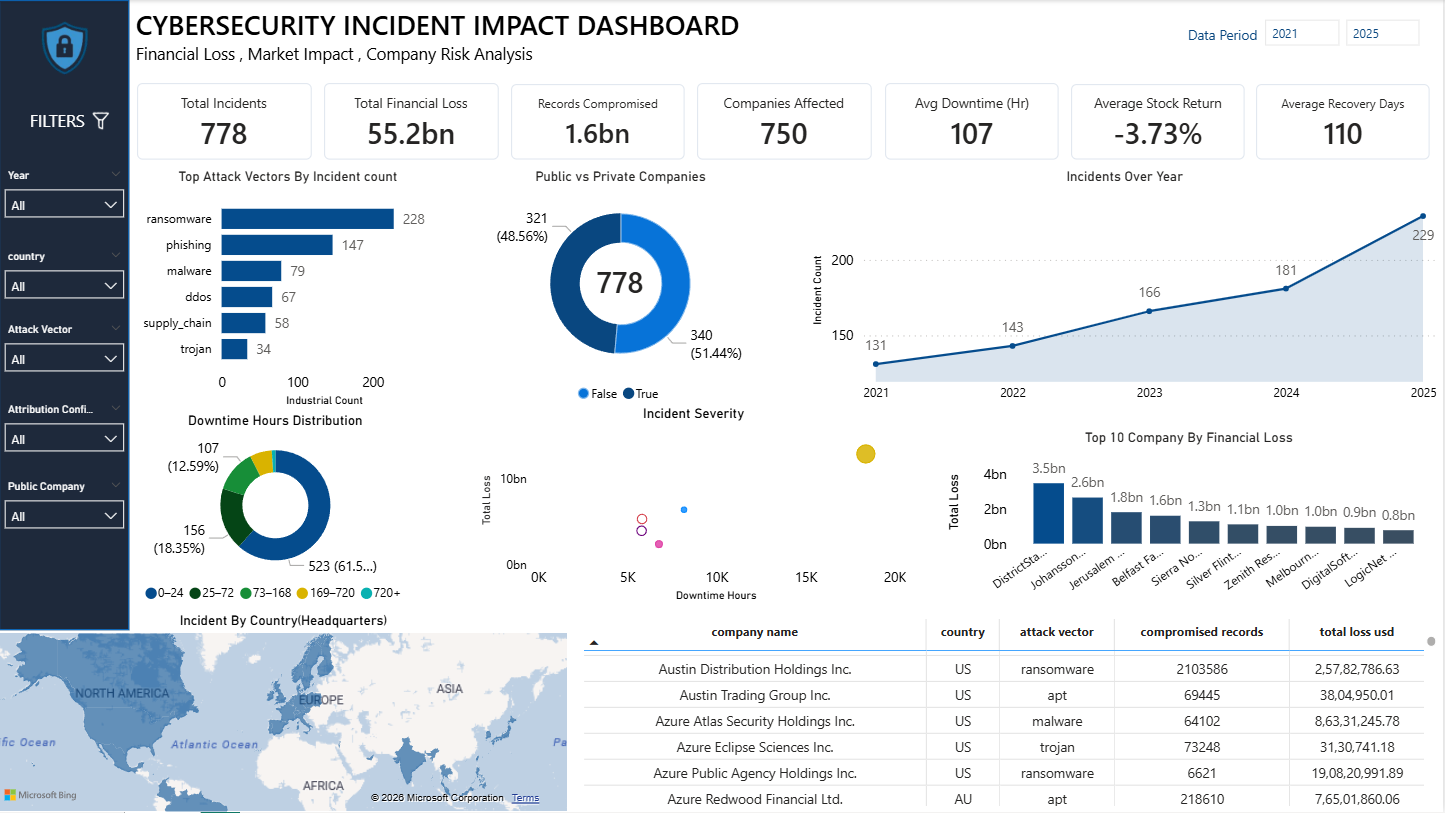

The page's visual inventory and layout, read from the dashboard file:
{"tool":"powerbi","page":{"name":"Page 1","canvas":[1280,720],"ordinal":0},"visuals":[{"type":"shape","box":[0,0,115.5,558.8],"z":0},{"type":"textbox","box":[115.7,0,549.5,67.1],"z":1},{"type":"textbox","box":[0,91.7,103.2,35],"z":2,"group":"g1"},{"type":"image","box":[77.2,87.8,26,38.9],"z":3,"group":"g1"},{"type":"group","id":"g1","title":"Group 1","box":[0,87.8,103,39.4],"z":4},{"type":"image","box":[21.4,11.7,73.9,62.2],"z":5},{"type":"cardVisual","fields":{"Data":["security incidents_master.Total Incidents"]},"box":[122.7,73.4,154.9,68.1],"z":6},{"type":"cardVisual","fields":{"Data":["security financial_impact.Total Financial Loss"]},"box":[288.4,73.4,154.9,68.1],"z":7},{"type":"cardVisual","fields":{"Data":["security incidents_master.Records Compromised"]},"box":[454,74.3,154,67.2],"z":8},{"type":"cardVisual","fields":{"Data":["security incidents_master.Companies Affected"]},"box":[618.8,73.4,154.9,68.1],"z":9},{"type":"cardVisual","fields":{"Data":["security incidents_master.Average Downtime"]},"box":[785.4,73.4,154,68.1],"z":10},{"type":"cardVisual","fields":{"Data":["security market_impact.Average Stock Return"]},"box":[950.1,74.3,154,67.2],"z":11},{"type":"cardVisual","fields":{"Data":["security market_impact.Average Recovery Days"]},"box":[1114.9,74.3,154,67.2],"z":12},{"type":"clusteredBarChart","title":"Top Attack Vectors By Incident count","fields":{"Y":["CountNonNull(security incidents_master.incident_id)"],"Category":["security incidents_master.attack_vector_primary"]},"box":[122.7,149.6,267.8,210.4],"z":13},{"type":"donutChart","title":"Public vs Private Companies","fields":{"Category":["security incidents_master.is_public_company"],"Y":["CountNonNull(security incidents_master.incident_id)"]},"box":[416.4,149.6,268.7,216.7],"z":14,"group":"g2"},{"type":"cardVisual","fields":{"Data":["security incidents_master.Total Incidents"]},"box":[504.2,222.1,92.2,50.1],"z":17,"group":"g2"},{"type":"group","id":"g2","title":"Group 2","box":[416.4,149.6,268.7,216.7],"z":18},{"type":"lineChart","title":"Incidents Over Year","fields":{"Category":["security incidents_master.incident_date.Variation.Date Hierarchy.Year"],"Y":["CountNonNull(security incidents_master.incident_id)"]},"box":[716.4,149.6,563.3,216.7],"z":19},{"type":"donutChart","title":"Downtime Hours Distribution","fields":{"Category":["security incidents_master.Downtime_hr Group"],"Y":["CountNonNull(security incidents_master.incident_id)"]},"box":[122.7,366.3,245.4,177.3],"z":20},{"type":"columnChart","title":"Top 10 Company By Financial Loss","fields":{"Category":["security incidents_master.company_name"],"Y":["Sum(security financial_impact.total_loss_usd)"]},"box":[841.8,381.5,427.2,147.8],"z":21},{"type":"scatterChart","title":"Incident Severity","fields":{"Y":["Sum(security financial_impact.total_loss_usd)"],"Size":["Sum(security incidents_master.data_compromised_records)"],"Series":["security incidents_master.attack_vector_primary"],"X":["Sum(security incidents_master.downtime_hours)"]},"box":[422.7,360,386,178.2],"z":22},{"type":"filledMap","title":"Incident By Country(Headquarters)","fields":{"Category":["security incidents_master.country_hq"]},"box":[0,543.6,504.2,176.4],"z":23},{"type":"tableEx","fields":{"Values":["security incidents_master.company_name","security incidents_master.country_hq","security incidents_master.attack_vector_primary","Sum(security incidents_master.data_compromised_records)","Sum(security financial_impact.total_loss_usd)"]},"box":[512.2,543.6,767.5,176.4],"z":24},{"type":"slicer","fields":{"Values":["security incidents_master.incident_date.Variation.Date Hierarchy.Year"]},"box":[0,149.6,115.5,47.5],"z":25},{"type":"slicer","fields":{"Values":["security incidents_master.country_hq"]},"box":[0,222.1,115.5,47.5],"z":26},{"type":"slicer","fields":{"Values":["security incidents_master.attack_vector_primary"]},"box":[0,286.6,115.5,47.5],"z":27},{"type":"slicer","fields":{"Values":["security incidents_master.attribution_confidence"]},"box":[0,357.3,115.5,47.5],"z":28},{"type":"slicer","fields":{"Values":["security incidents_master.is_public_company"]},"box":[0,425.4,115.5,47.5],"z":29},{"type":"slicer","fields":{"Values":["security incidents_master.incident_date.Variation.Date Hierarchy.Year"]},"box":[1114.6,12.4,165.8,30.1],"z":30},{"type":"textbox","box":[1049,16.8,87.8,32.8],"z":31}]}

Visuals, with their boxes in screenshot pixels (x1, y1, x2, y2), scaled from the page's 1280x720 canvas onto the 1445x813 screenshot:
shape: x1=0, y1=0, x2=130, y2=631
textbox: x1=131, y1=0, x2=751, y2=76
textbox: x1=0, y1=104, x2=117, y2=143
image: x1=87, y1=99, x2=117, y2=143
"Group 1" group: x1=0, y1=99, x2=116, y2=144
image: x1=24, y1=13, x2=108, y2=83
cardVisual - security incidents_master.Total Incidents: x1=139, y1=83, x2=313, y2=160
cardVisual - security financial_impact.Total Financial Loss: x1=326, y1=83, x2=500, y2=160
cardVisual - security incidents_master.Records Compromised: x1=513, y1=84, x2=686, y2=160
cardVisual - security incidents_master.Companies Affected: x1=699, y1=83, x2=873, y2=160
cardVisual - security incidents_master.Average Downtime: x1=887, y1=83, x2=1060, y2=160
cardVisual - security market_impact.Average Stock Return: x1=1073, y1=84, x2=1246, y2=160
cardVisual - security market_impact.Average Recovery Days: x1=1259, y1=84, x2=1432, y2=160
"Top Attack Vectors By Incident count" clusteredBarChart: x1=139, y1=169, x2=441, y2=406
"Public vs Private Companies" donutChart: x1=470, y1=169, x2=773, y2=414
cardVisual - security incidents_master.Total Incidents: x1=569, y1=251, x2=673, y2=307
"Group 2" group: x1=470, y1=169, x2=773, y2=414
"Incidents Over Year" lineChart: x1=809, y1=169, x2=1444, y2=414
"Downtime Hours Distribution" donutChart: x1=139, y1=414, x2=416, y2=614
"Top 10 Company By Financial Loss" columnChart: x1=950, y1=431, x2=1433, y2=598
"Incident Severity" scatterChart: x1=477, y1=406, x2=913, y2=608
"Incident By Country(Headquarters)" filledMap: x1=0, y1=614, x2=569, y2=812
tableEx - security incidents_master.company_name x security incidents_master.country_hq: x1=578, y1=614, x2=1444, y2=812
slicer - security incidents_master.incident_date.Variation.Date Hierarchy.Year: x1=0, y1=169, x2=130, y2=223
slicer - security incidents_master.country_hq: x1=0, y1=251, x2=130, y2=304
slicer - security incidents_master.attack_vector_primary: x1=0, y1=324, x2=130, y2=377
slicer - security incidents_master.attribution_confidence: x1=0, y1=403, x2=130, y2=457
slicer - security incidents_master.is_public_company: x1=0, y1=480, x2=130, y2=534
slicer - security incidents_master.incident_date.Variation.Date Hierarchy.Year: x1=1258, y1=14, x2=1444, y2=48
textbox: x1=1184, y1=19, x2=1283, y2=56
